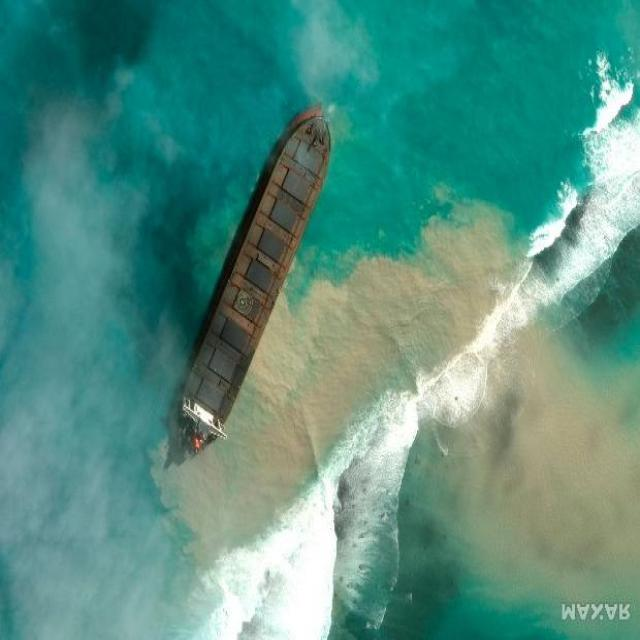oil: (1, 5, 193, 352)
